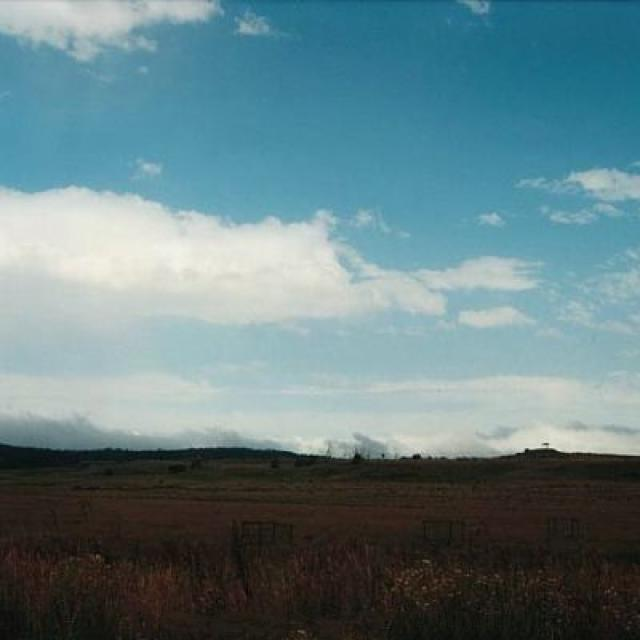St: (3, 155, 608, 407)
